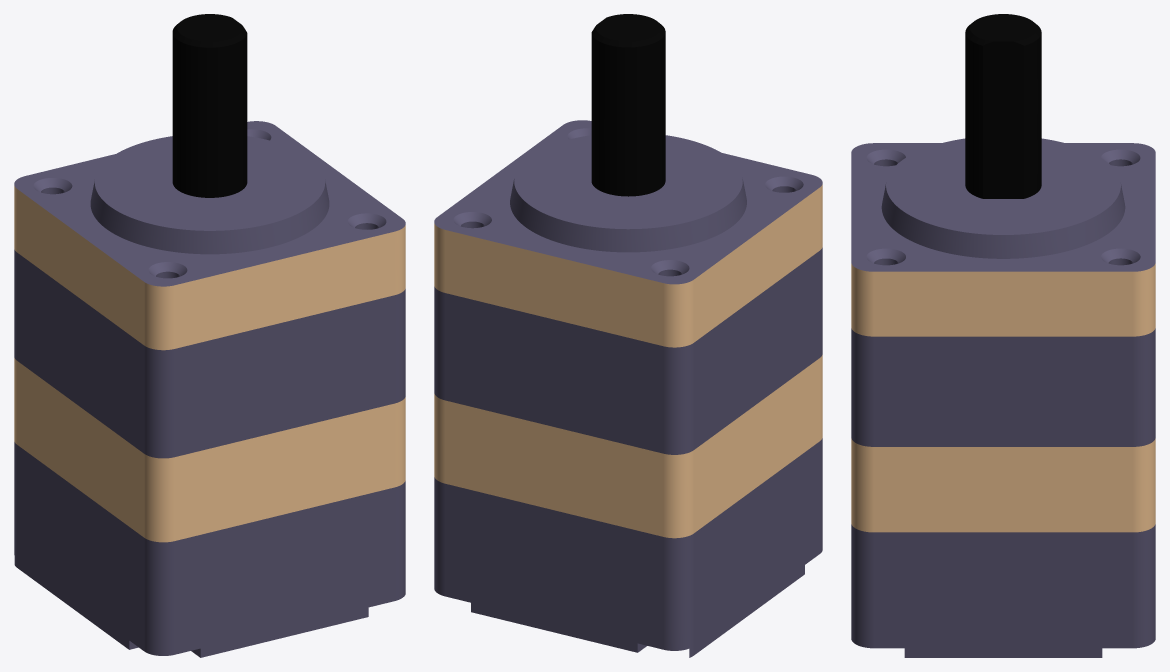
Rendered from Main_PK513PA-H50S_v2.dae.
3 views of the same model, side by side, from view 1: azimuth 30°, elevation 25°; view 2: azimuth 150°, elevation 25°; view 3: azimuth 270°, elevation 25° (orthographic). The views are drawn at different scales.
Visible parts, largest first — view 1: Main_PK513PA-H50S_v2; view 2: Main_PK513PA-H50S_v2; view 3: Main_PK513PA-H50S_v2.
Boxes of the visible parts, left/top/right/bottom form: Main_PK513PA-H50S_v2: left=14, top=14, right=405, bottom=657; Main_PK513PA-H50S_v2: left=434, top=14, right=822, bottom=657; Main_PK513PA-H50S_v2: left=851, top=14, right=1155, bottom=657.
Size of the model in its own units: 0.02 by 0.02 by 0.041.
